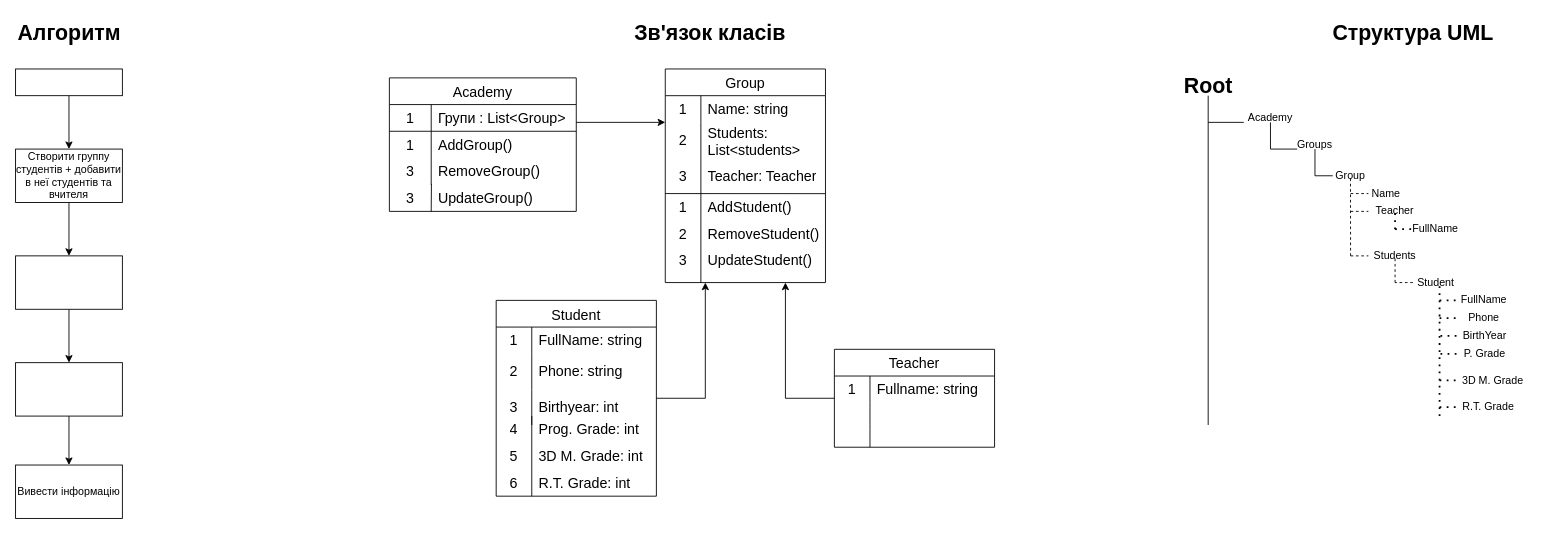
The diagram is 1544 pixels wide and 534 high, and some of its shapes have lost their labels. The shapes that lost their labels are listed below. From the top down, each one's centre as x and y in pixels, then its label:
At (68,82): "Створити об'єкт academy".
At (68,282): "Додати групу/групи в academy".
At (68,389): "Зберегти у XML файлі дані програми".
